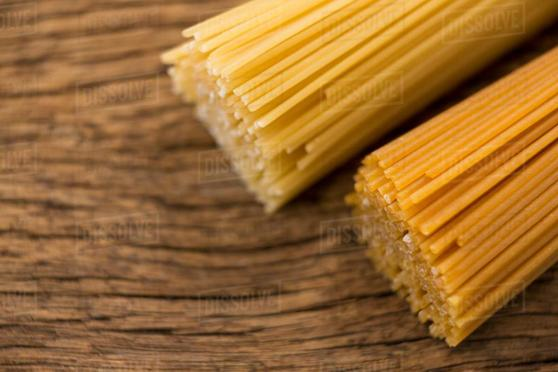spaghetti: (142, 3, 556, 165), (362, 76, 555, 372)
